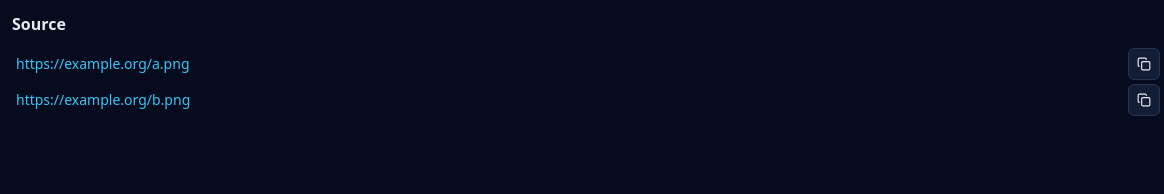
copy writes the URL to the clipboard; a failed copy shows the message
Expected: the link "https://example.org/b.png" is shown, [16,90,190,109]
Click the button named "Copy URL" in the row of "https://example.org/b.png" at (1144, 100), box [1128,84,1160,116]
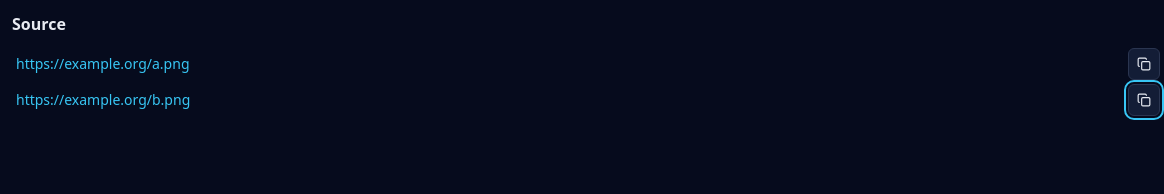
Click the button named "Copy URL" in the row of "https://example.org/b.png" at (1144, 100), box [1128,84,1160,116]
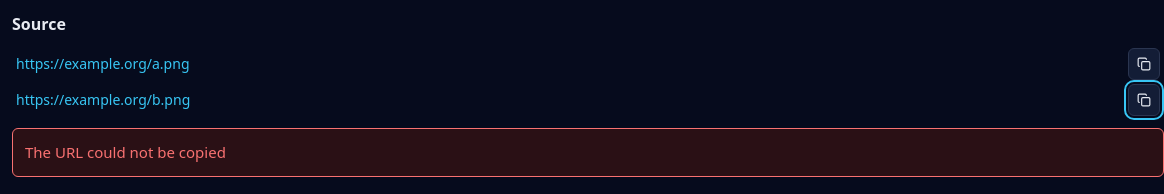
Now the message reads "The URL could not be copied", box [25,142,226,162]
